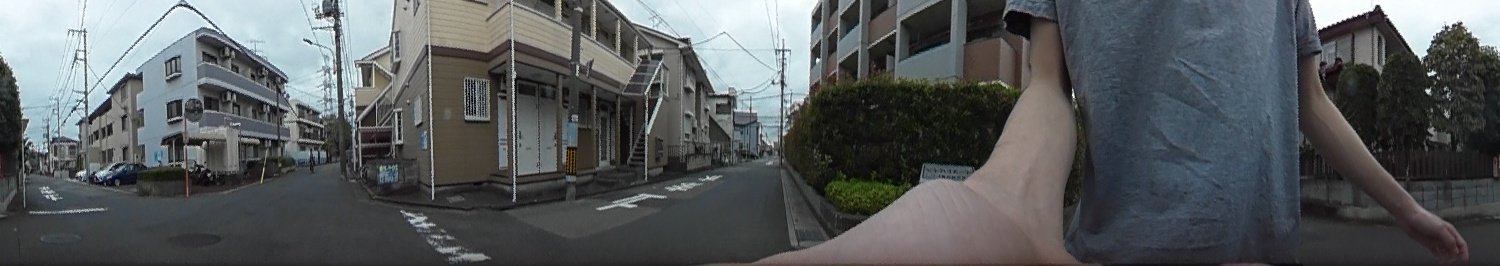difficult_person: (307, 146, 316, 174)
